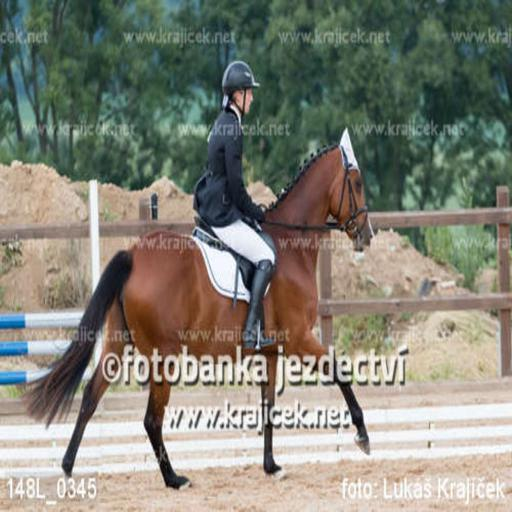horse: (16, 126, 372, 489)
